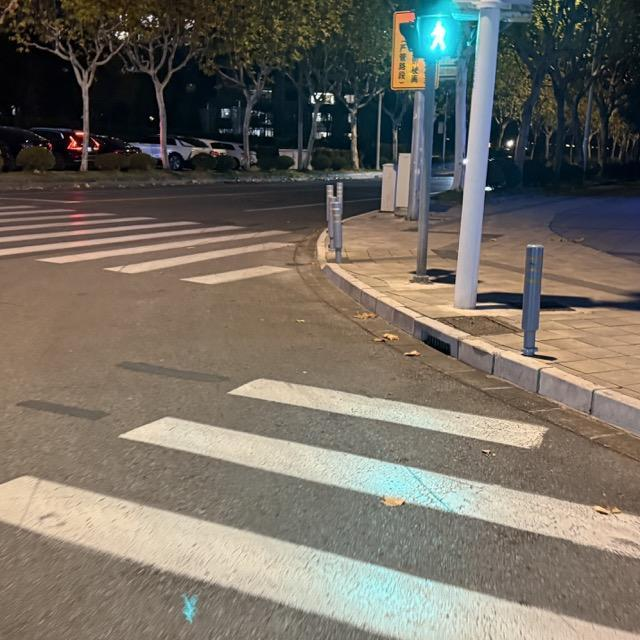curb: (317, 230, 639, 437), (5, 171, 381, 190)
